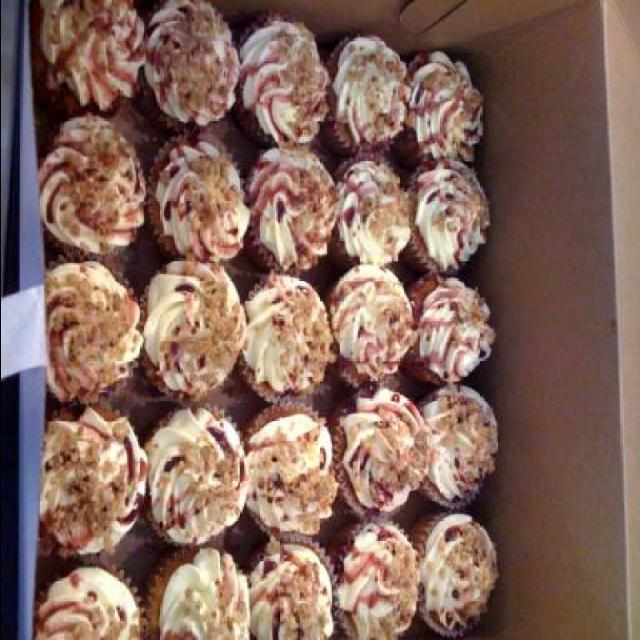Muffin: (25, 0, 502, 638), (133, 260, 244, 406)
